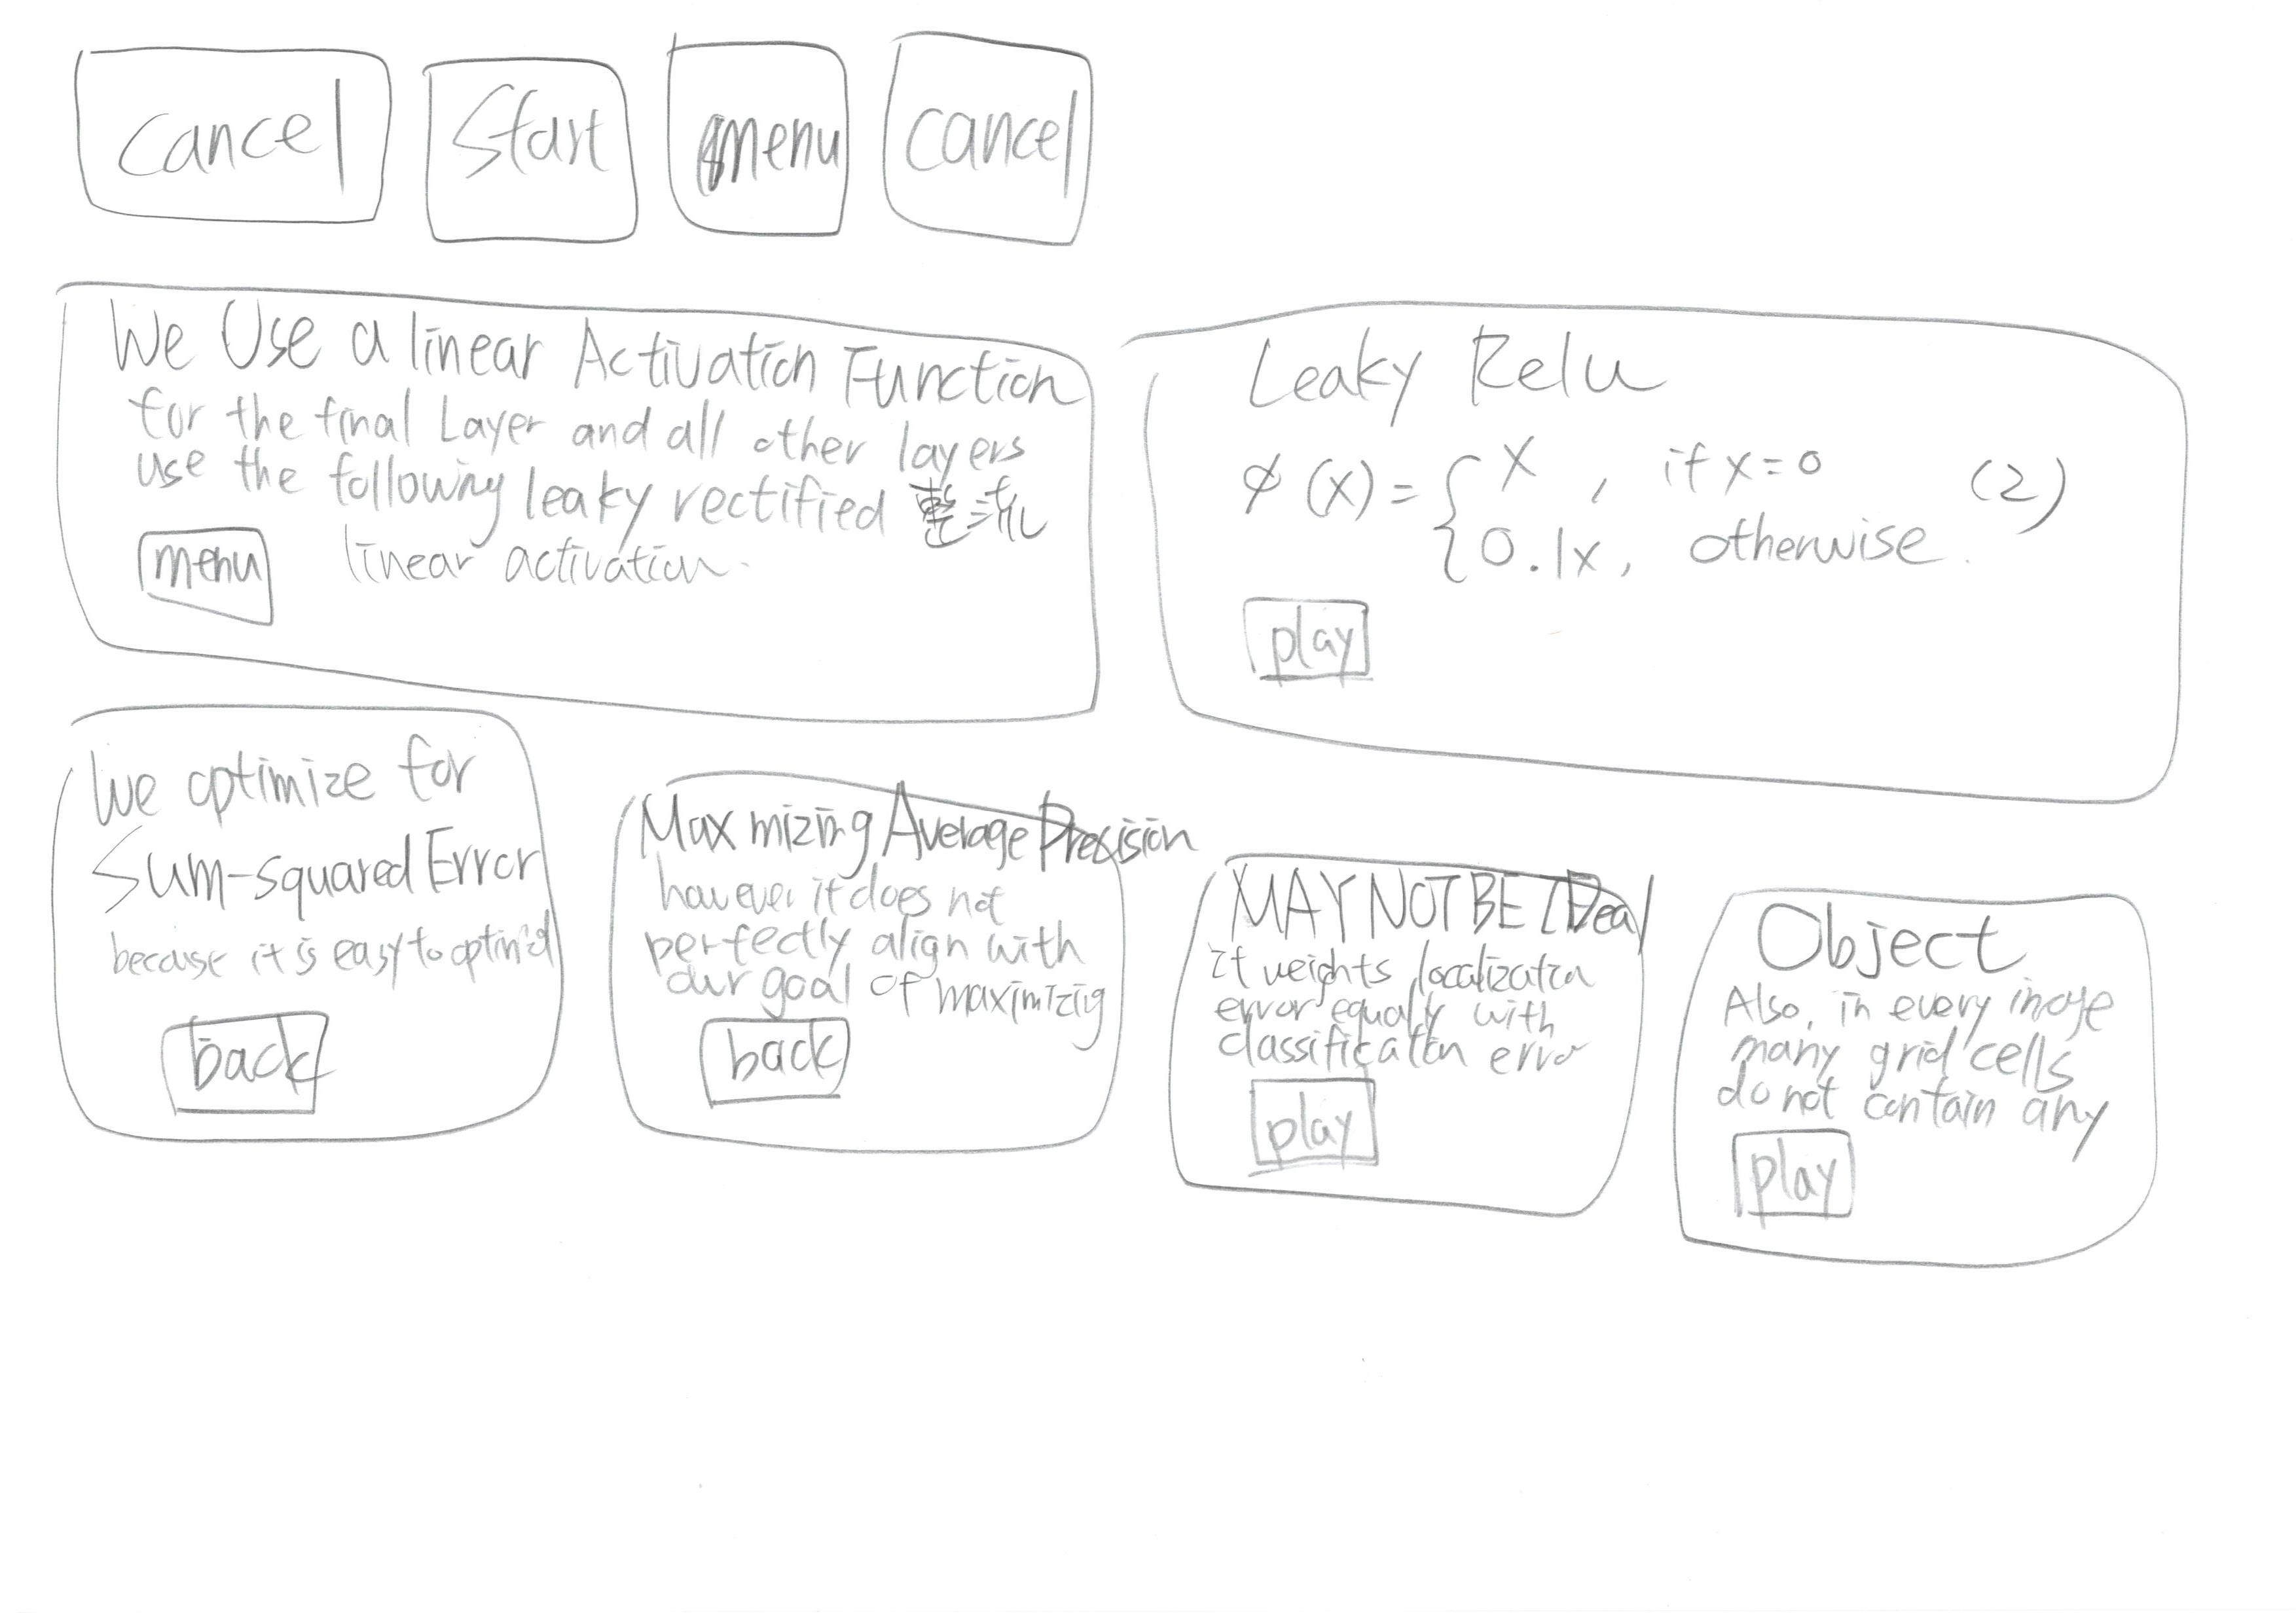back: (128, 990, 378, 1123), (677, 1004, 900, 1134)
cancel: (23, 14, 410, 246), (865, 18, 1152, 269)
double: (1099, 279, 2277, 819), (12, 258, 1148, 747)
menu: (640, 12, 870, 260), (109, 506, 297, 647)
play: (1705, 1111, 1890, 1244), (1208, 576, 1408, 689), (1225, 1074, 1426, 1176)
quadruple: (584, 668, 1150, 1237), (23, 670, 589, 1237), (1118, 780, 1684, 1348), (1644, 803, 2210, 1371)
row: (0, 685, 2296, 1394), (16, 264, 2296, 819), (4, 0, 2284, 297)
small-title: (104, 281, 1094, 424), (83, 733, 531, 905), (1206, 327, 1751, 429), (631, 775, 1197, 863), (1224, 856, 1663, 954), (1737, 895, 2011, 977)
start: (408, 40, 661, 260)
text: (107, 390, 1028, 554), (1224, 439, 2106, 578), (652, 868, 1115, 1009), (1217, 954, 1614, 1081), (1709, 998, 2115, 1109), (84, 919, 563, 986)
